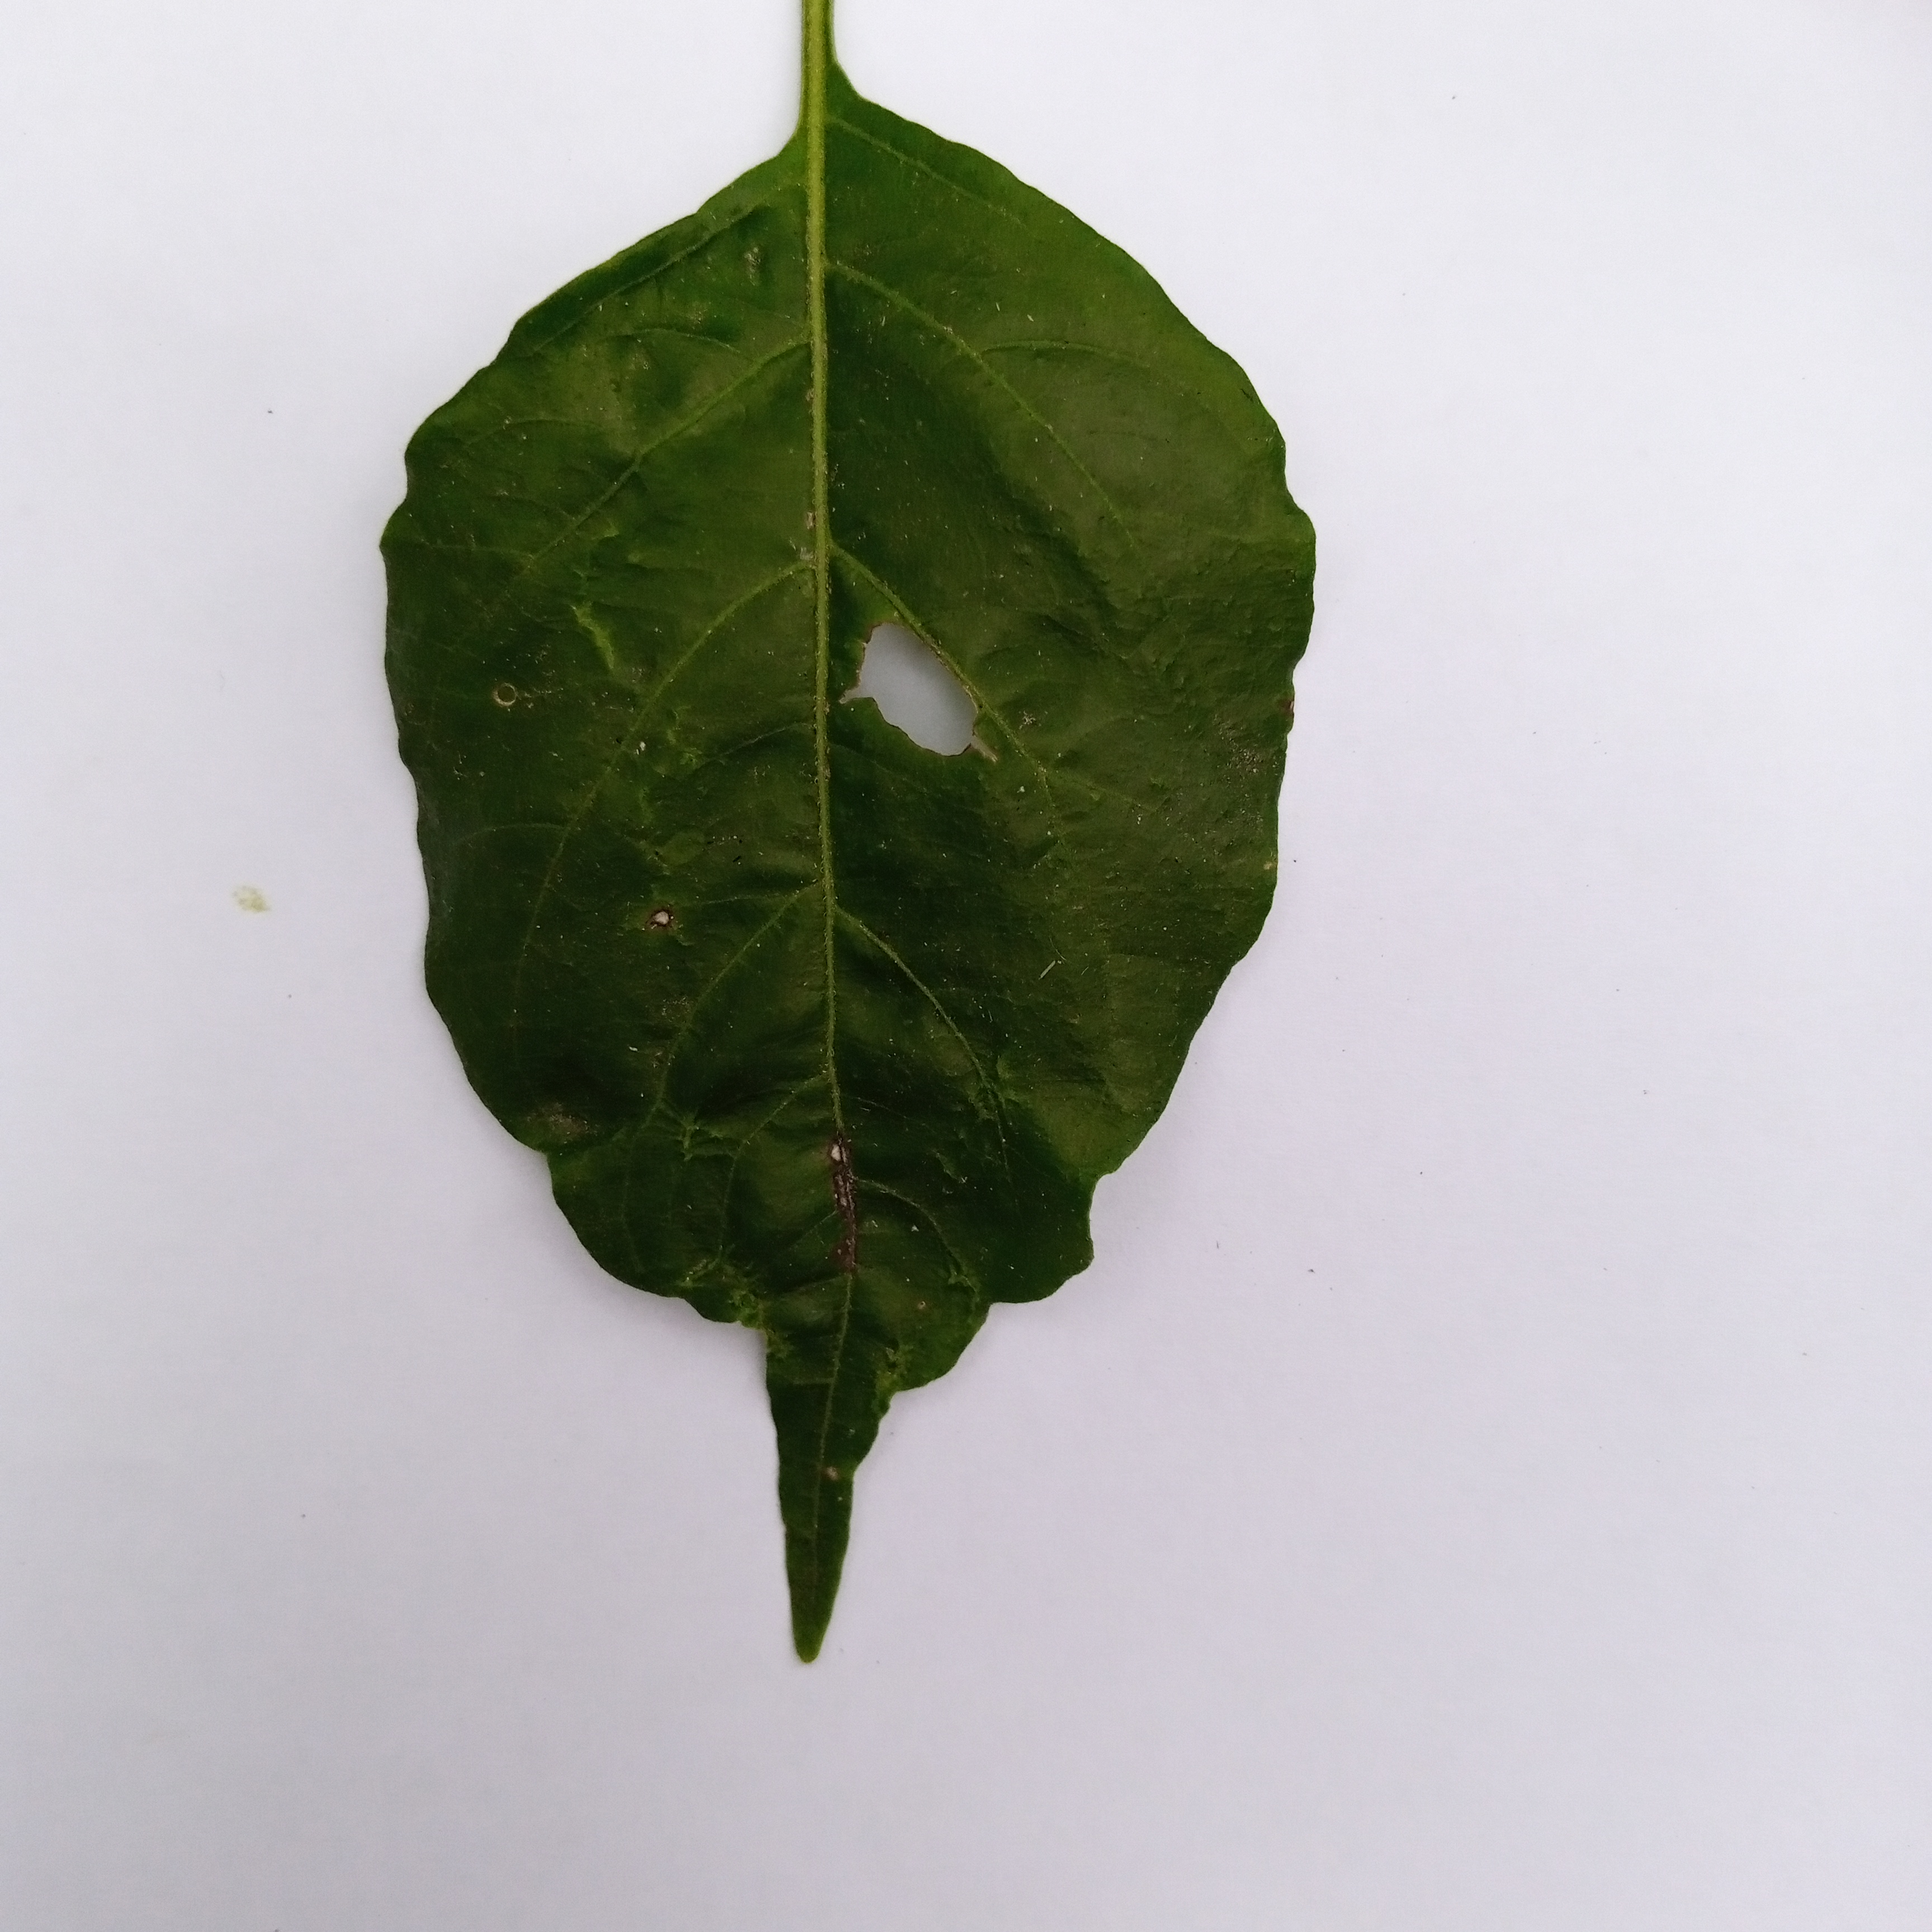Leaf: (280, 58, 1384, 1686)
